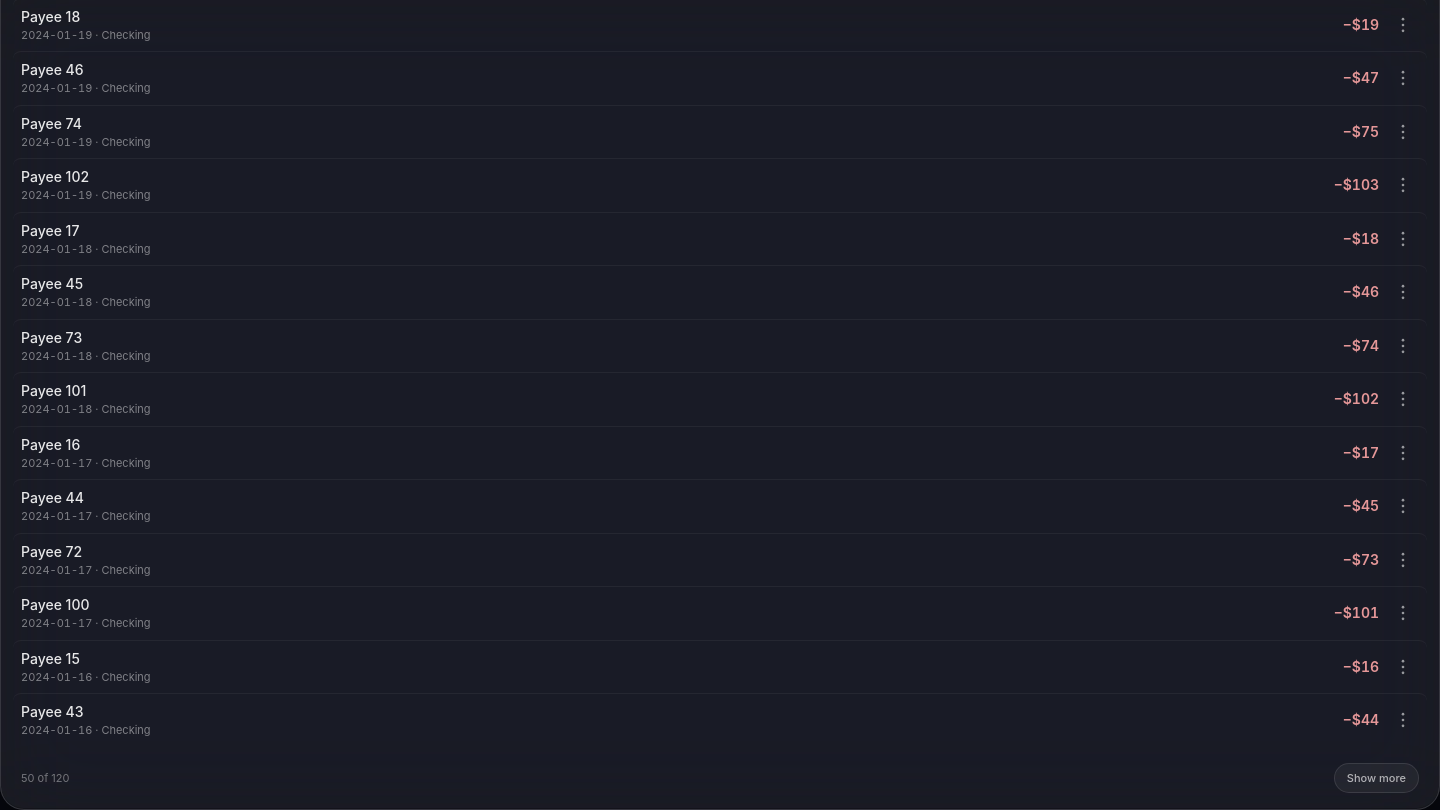
Test: TransactionsSection › reveals 50 more rows per 'Show more' activation
(page scrolled)
Click the button "Show more": [1376, 778] box [1334,762,1419,793]
(page scrolled)
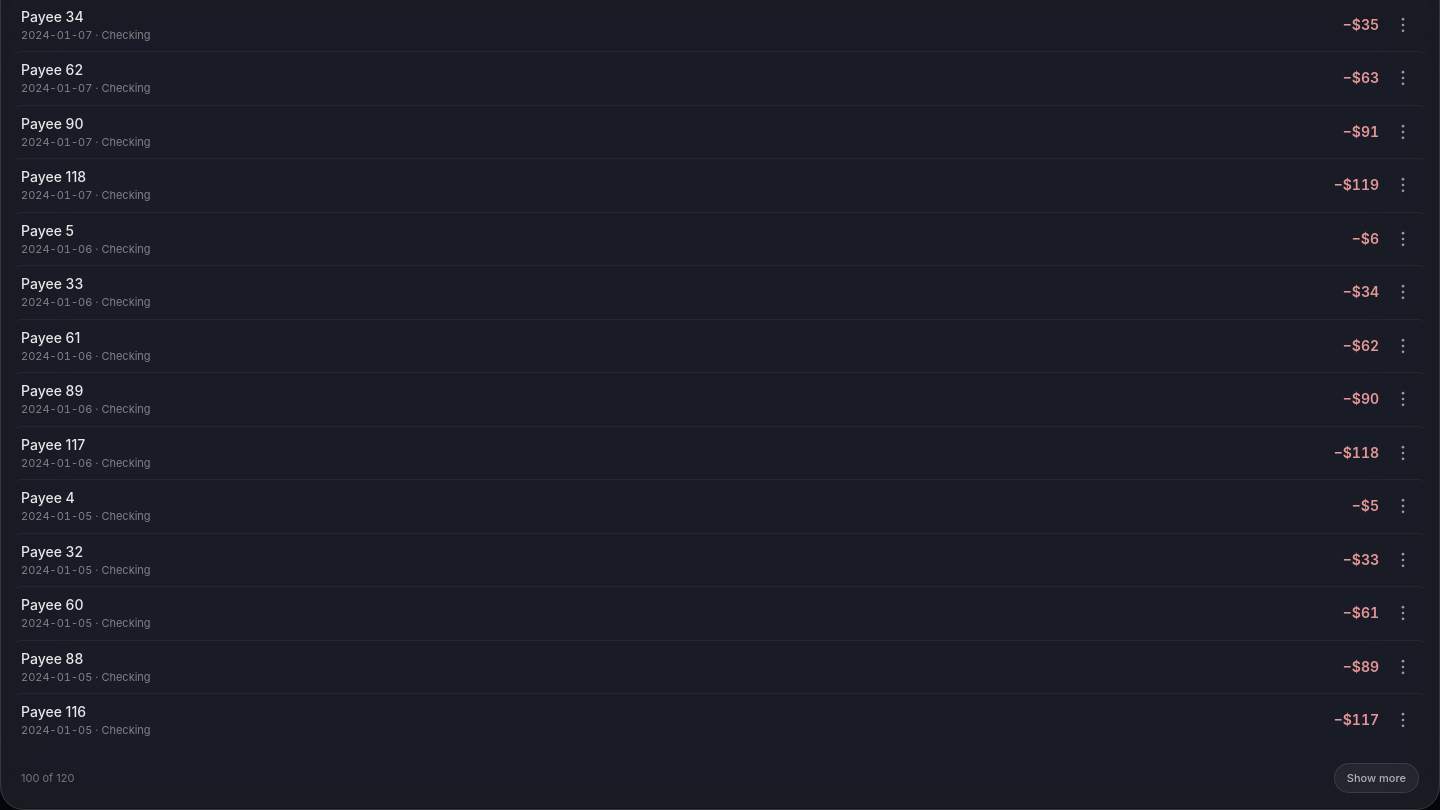
Click the button "Show more": [1376, 778] box [1334,762,1419,793]
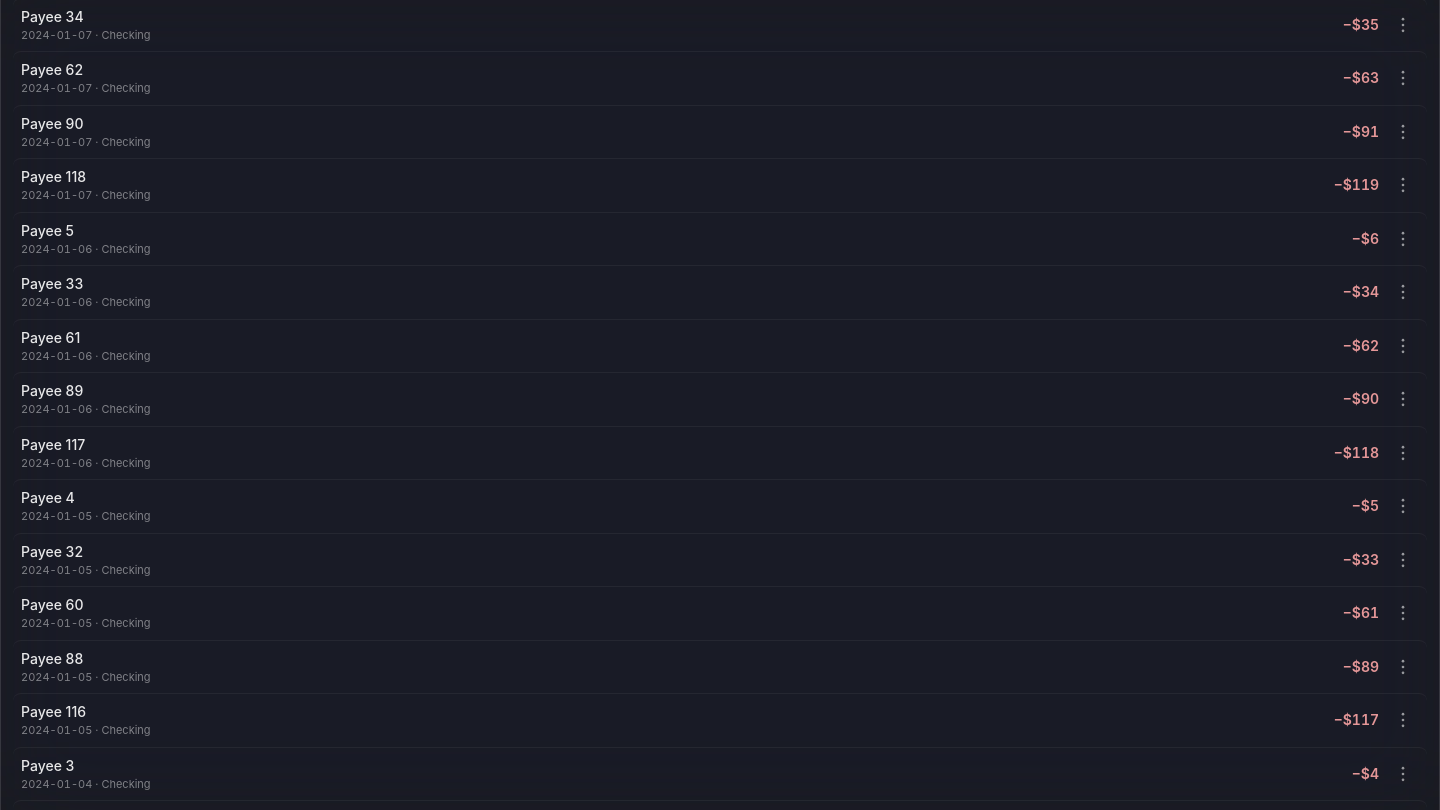
Check: the button "Show more" is gone
